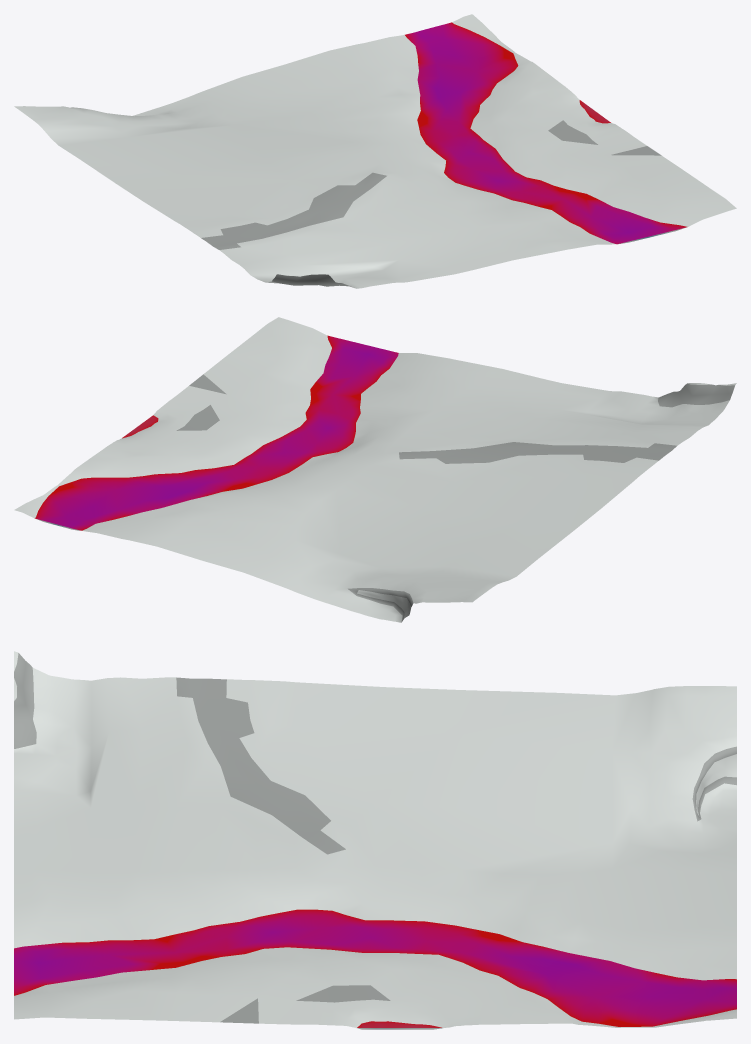
The picture shows the model from 3 angles, top to bottom: view 1: azimuth 30°, elevation 25°; view 2: azimuth 150°, elevation 25°; view 3: azimuth 270°, elevation 25°; orthographic projection. The views are drawn at different scales.
Parts seen in each view (by area): view 1: G:\FFXIV-MapTools\exports\r2f1\bg\ex1\01_roc_r2\fld\r2f1\bgp (×6); view 2: G:\FFXIV-MapTools\exports\r2f1\bg\ex1\01_roc_r2\fld\r2f1\bgp (×6); view 3: G:\FFXIV-MapTools\exports\r2f1\bg\ex1\01_roc_r2\fld\r2f1\bgp (×7).
Boxes of the visible parts, x1,y1,x2,y2 form: G:\FFXIV-MapTools\exports\r2f1\bg\ex1\01_roc_r2\fld\r2f1\bgp (×6): [14, 14, 736, 288]; G:\FFXIV-MapTools\exports\r2f1\bg\ex1\01_roc_r2\fld\r2f1\bgp (×6): [14, 317, 736, 622]; G:\FFXIV-MapTools\exports\r2f1\bg\ex1\01_roc_r2\fld\r2f1\bgp (×7): [14, 651, 736, 1027].
Bounding box in the file's own units: 128 × 17.38 × 128.
